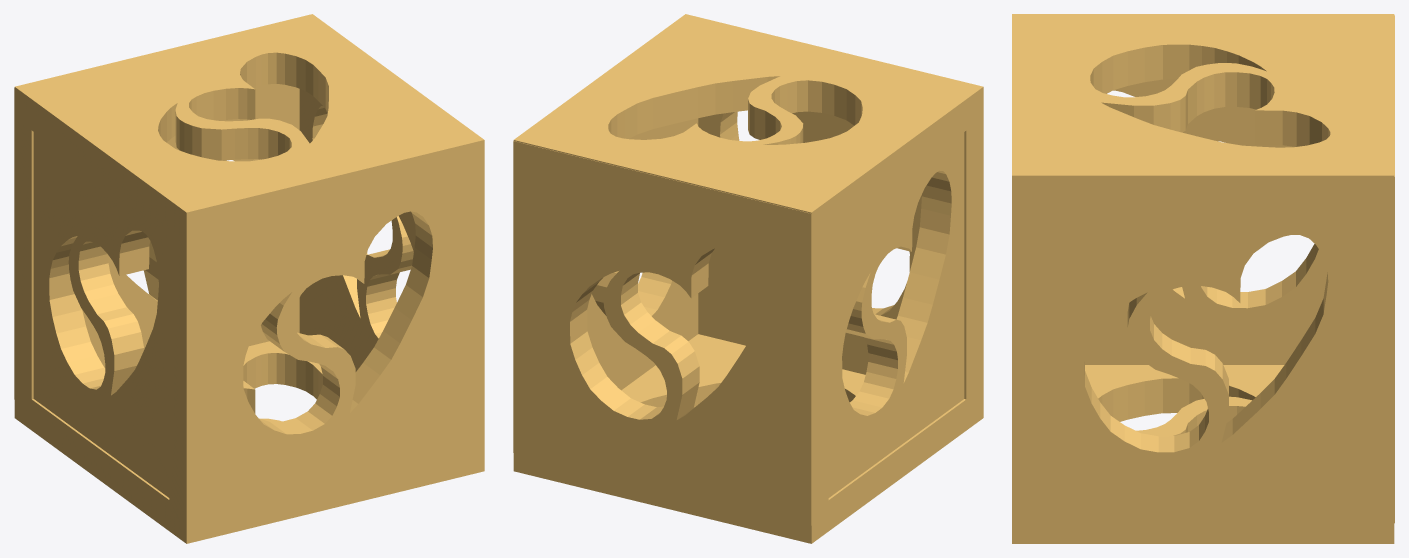
File: board.glb
The picture shows the model from 3 angles, left to right: view 1: azimuth 30°, elevation 25°; view 2: azimuth 150°, elevation 25°; view 3: azimuth 270°, elevation 25°; orthographic projection. The views are drawn at different scales.
Parts seen in each view (by area): view 1: Cube.001, Cube, Cube.002, Cube.004, Cube.003, Cube.005; view 2: Cube.005, Cube, Cube.002, Cube.001, Cube.003, Cube.004; view 3: Cube, Cube.004, Cube.003, Cube.002, Cube.001, Cube.005.
Part boxes in pixels (x1,y1,x2,y2): Cube.001: [169, 142, 484, 525]; Cube: [14, 14, 484, 243]; Cube.002: [33, 132, 218, 524]; Cube.004: [299, 89, 484, 442]; Cube.003: [14, 341, 484, 543]; Cube.005: [14, 84, 299, 411]; Cube.005: [513, 141, 828, 525]; Cube: [513, 14, 983, 243]; Cube.002: [828, 132, 964, 497]; Cube.001: [698, 88, 983, 411]; Cube.003: [513, 334, 983, 543]; Cube.004: [587, 118, 698, 390]; Cube: [1012, 14, 1394, 210]; Cube.004: [1050, 210, 1356, 509]; Cube.003: [1012, 365, 1394, 543]; Cube.002: [1085, 79, 1327, 364]; Cube.001: [1012, 177, 1050, 523]; Cube.005: [1356, 15, 1394, 523].
Size of the model in its own units: 1 by 1.06 by 1.
